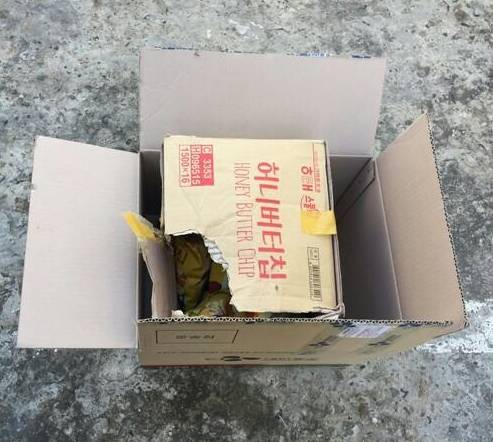damaged package: (139, 135, 411, 327)
